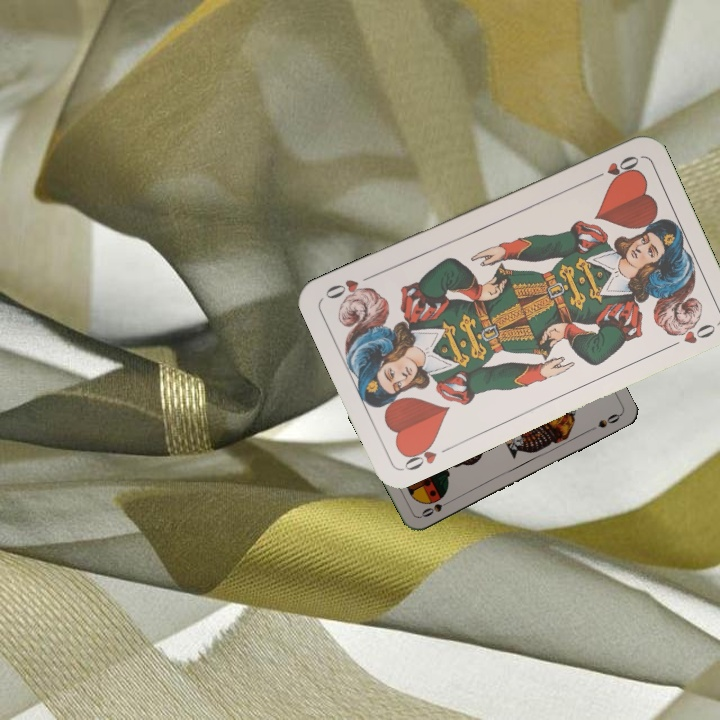HO: (586, 151, 642, 183), (398, 436, 440, 474)
SO: (417, 496, 455, 520)
